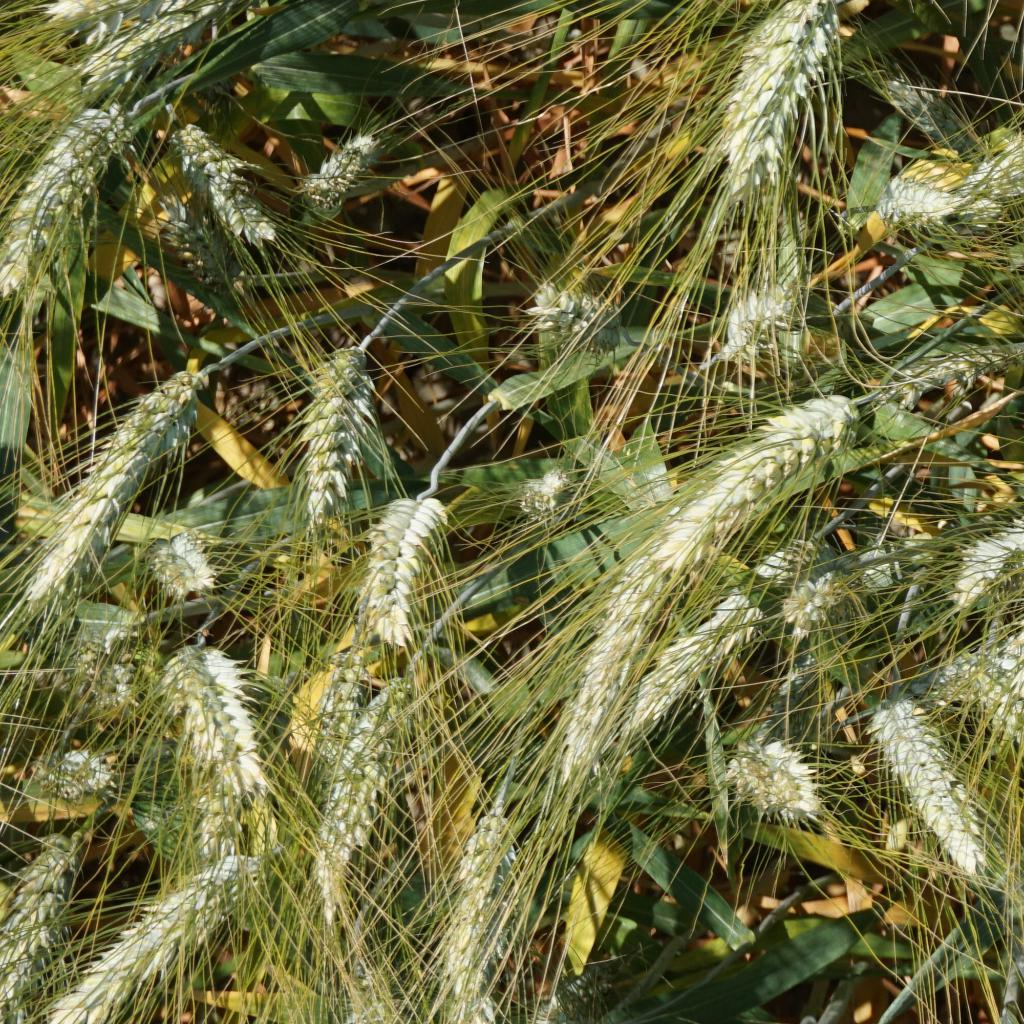0-0: (643, 390, 866, 548), (29, 382, 194, 581), (84, 860, 257, 1012), (60, 0, 349, 79), (872, 694, 988, 873), (2, 101, 118, 279), (606, 596, 762, 719), (155, 636, 269, 793), (436, 797, 530, 985), (357, 487, 456, 652), (566, 564, 659, 739), (287, 333, 375, 513), (729, 0, 839, 139), (339, 680, 406, 883), (776, 0, 867, 125), (6, 833, 76, 983), (897, 331, 1024, 406), (505, 286, 631, 355), (939, 508, 1024, 599), (297, 123, 386, 200), (869, 171, 978, 230), (702, 282, 801, 346), (762, 738, 831, 829), (164, 117, 249, 189), (879, 65, 957, 143), (205, 174, 293, 240), (977, 674, 1024, 795), (158, 190, 220, 278), (775, 568, 852, 636), (764, 652, 833, 727), (316, 655, 363, 765), (180, 790, 259, 854), (965, 111, 1024, 196), (67, 642, 146, 703), (733, 738, 795, 813), (518, 459, 582, 526), (531, 967, 603, 1024), (335, 964, 398, 1024), (146, 535, 214, 589), (46, 750, 120, 799)
